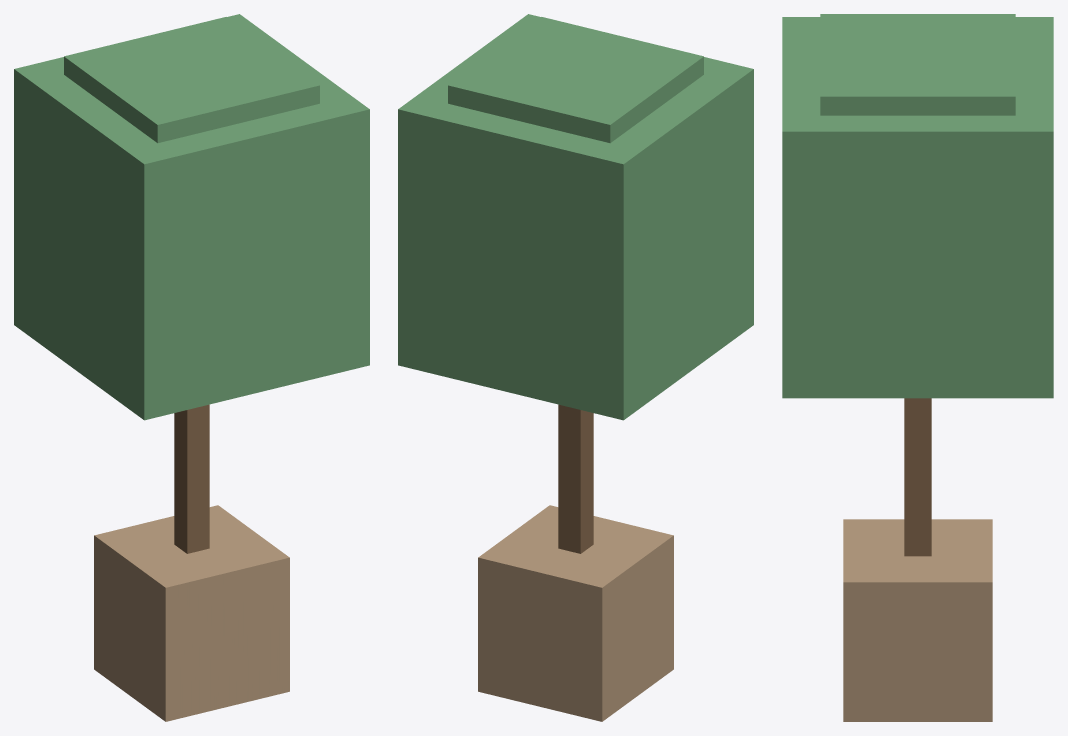
File: catalog-plant-ficus-060.gltf
The picture shows the model from 3 angles, left to right: view 1: azimuth 30°, elevation 25°; view 2: azimuth 150°, elevation 25°; view 3: azimuth 270°, elevation 25°; orthographic projection. The views are drawn at different scales.
Parts seen in each view (by area): view 1: CrownA, Pot, CrownB, Trunk; view 2: CrownA, Pot, CrownB, Trunk; view 3: CrownA, Pot, CrownB, Trunk.
Boxes of the visible parts, left/top/right/bottom form: CrownA: left=14, top=14, right=369, bottom=420; Pot: left=94, top=505, right=289, bottom=721; CrownB: left=64, top=17, right=319, bottom=143; Trunk: left=174, top=404, right=209, bottom=553; CrownA: left=398, top=14, right=753, bottom=420; Pot: left=478, top=505, right=673, bottom=721; CrownB: left=448, top=17, right=703, bottom=143; Trunk: left=558, top=404, right=593, bottom=553; CrownA: left=782, top=17, right=1053, bottom=398; Pot: left=843, top=519, right=992, bottom=721; CrownB: left=820, top=14, right=1015, bottom=115; Trunk: left=904, top=398, right=931, bottom=556.
Size of the model in its own units: 0.6 by 1.55 by 0.6.
